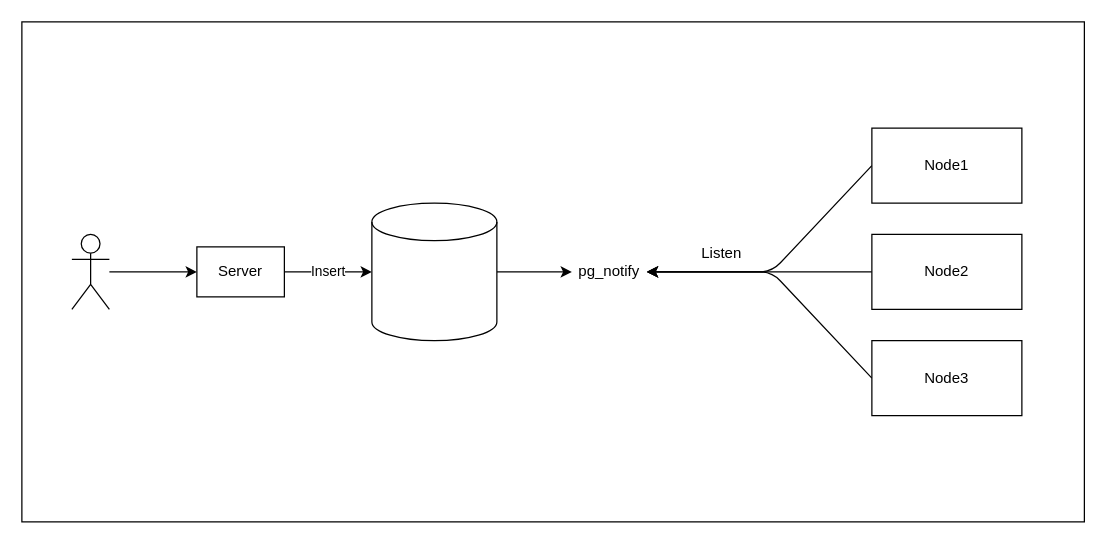
This 1106x544 diagram has some shape labels left out. The shapes that lost their labels are listed below. From the top down, each one's box as (x1, y1, x2, y2) in pixels, then its label:
(71, 233, 109, 309): Client
(371, 202, 497, 341): Postgresql
